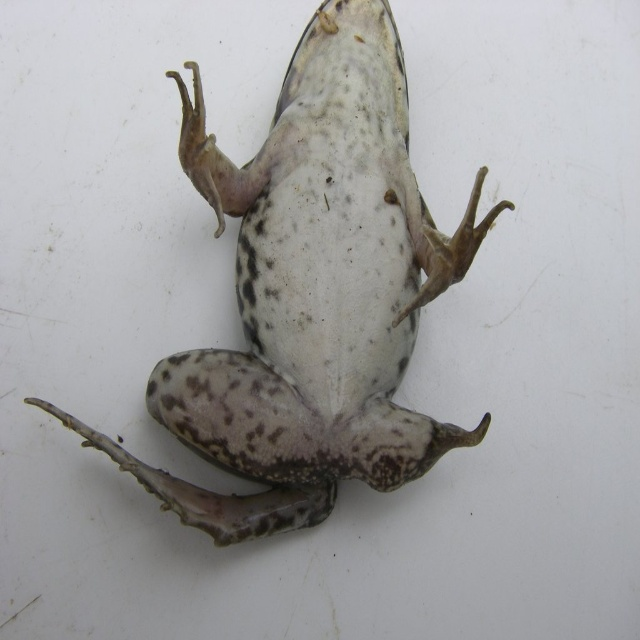Frog: (22, 0, 515, 549)
